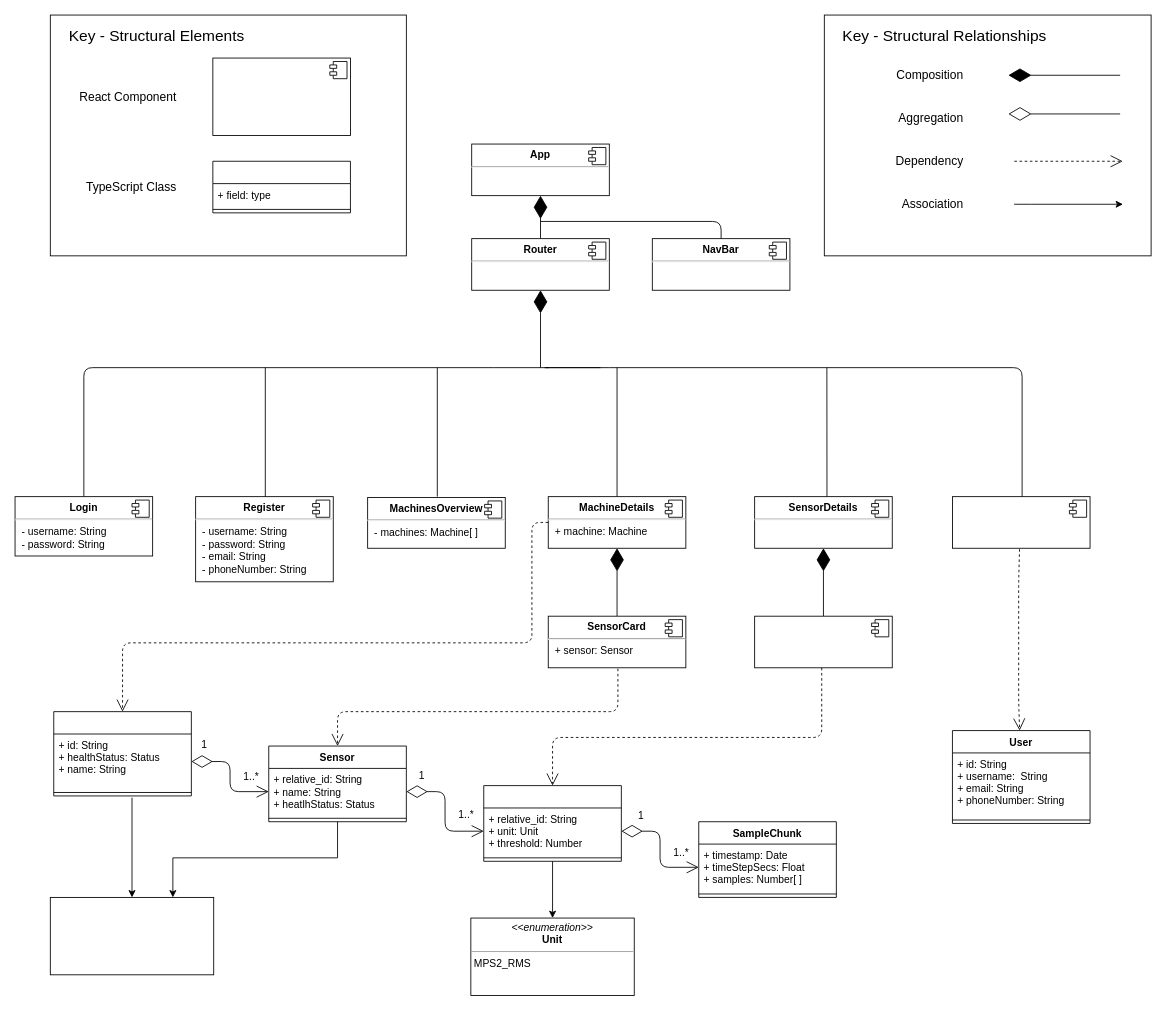
This 1166x1011 diagram has some shape labels left out. Here are the shapes that lost their labels. From the top down, the box of each, then its label:
(212, 57, 350, 135): ComponentName - stateField: Type + prop: Type
(212, 160, 350, 213): Classname
(952, 496, 1090, 548): ProfilePage + user: User
(754, 615, 892, 668): SignalGraph + signal: Signal
(53, 711, 191, 796): Machine
(483, 785, 621, 861): Signal
(49, 897, 214, 975): <<enumeration>> Status Nominal Moderate Critical
